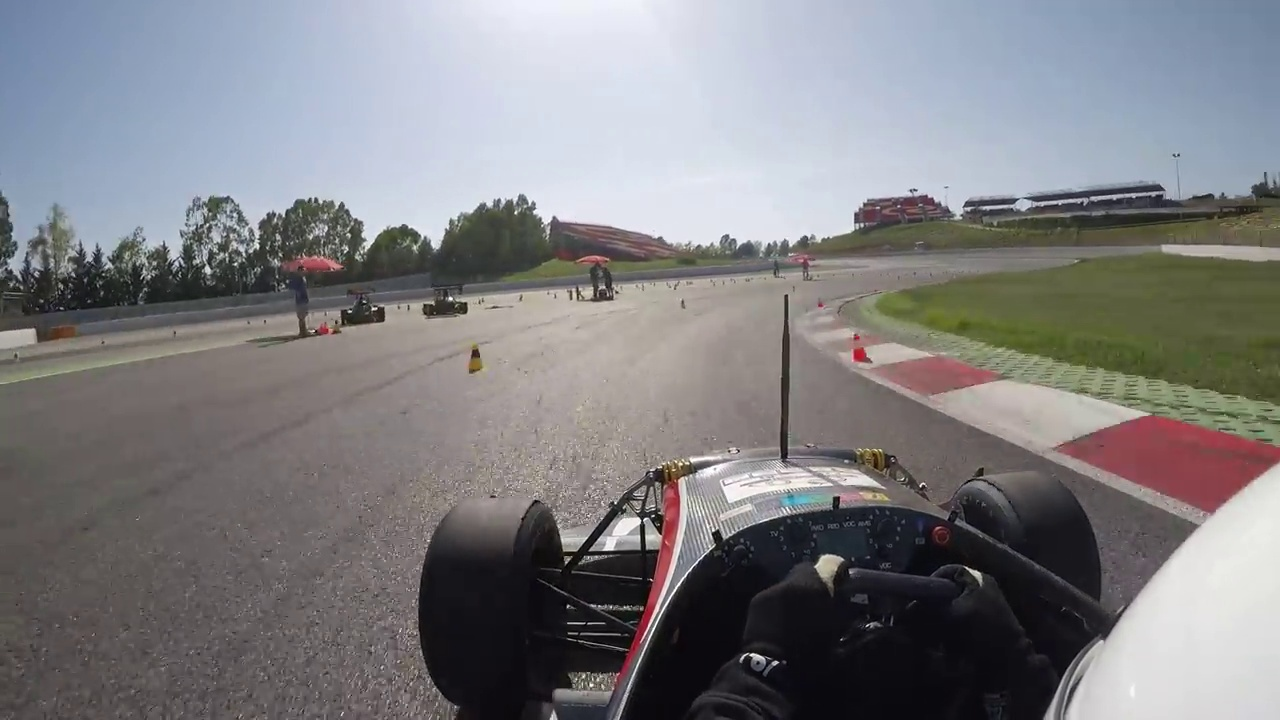Cone: (850, 330, 871, 364), (467, 340, 485, 375)
